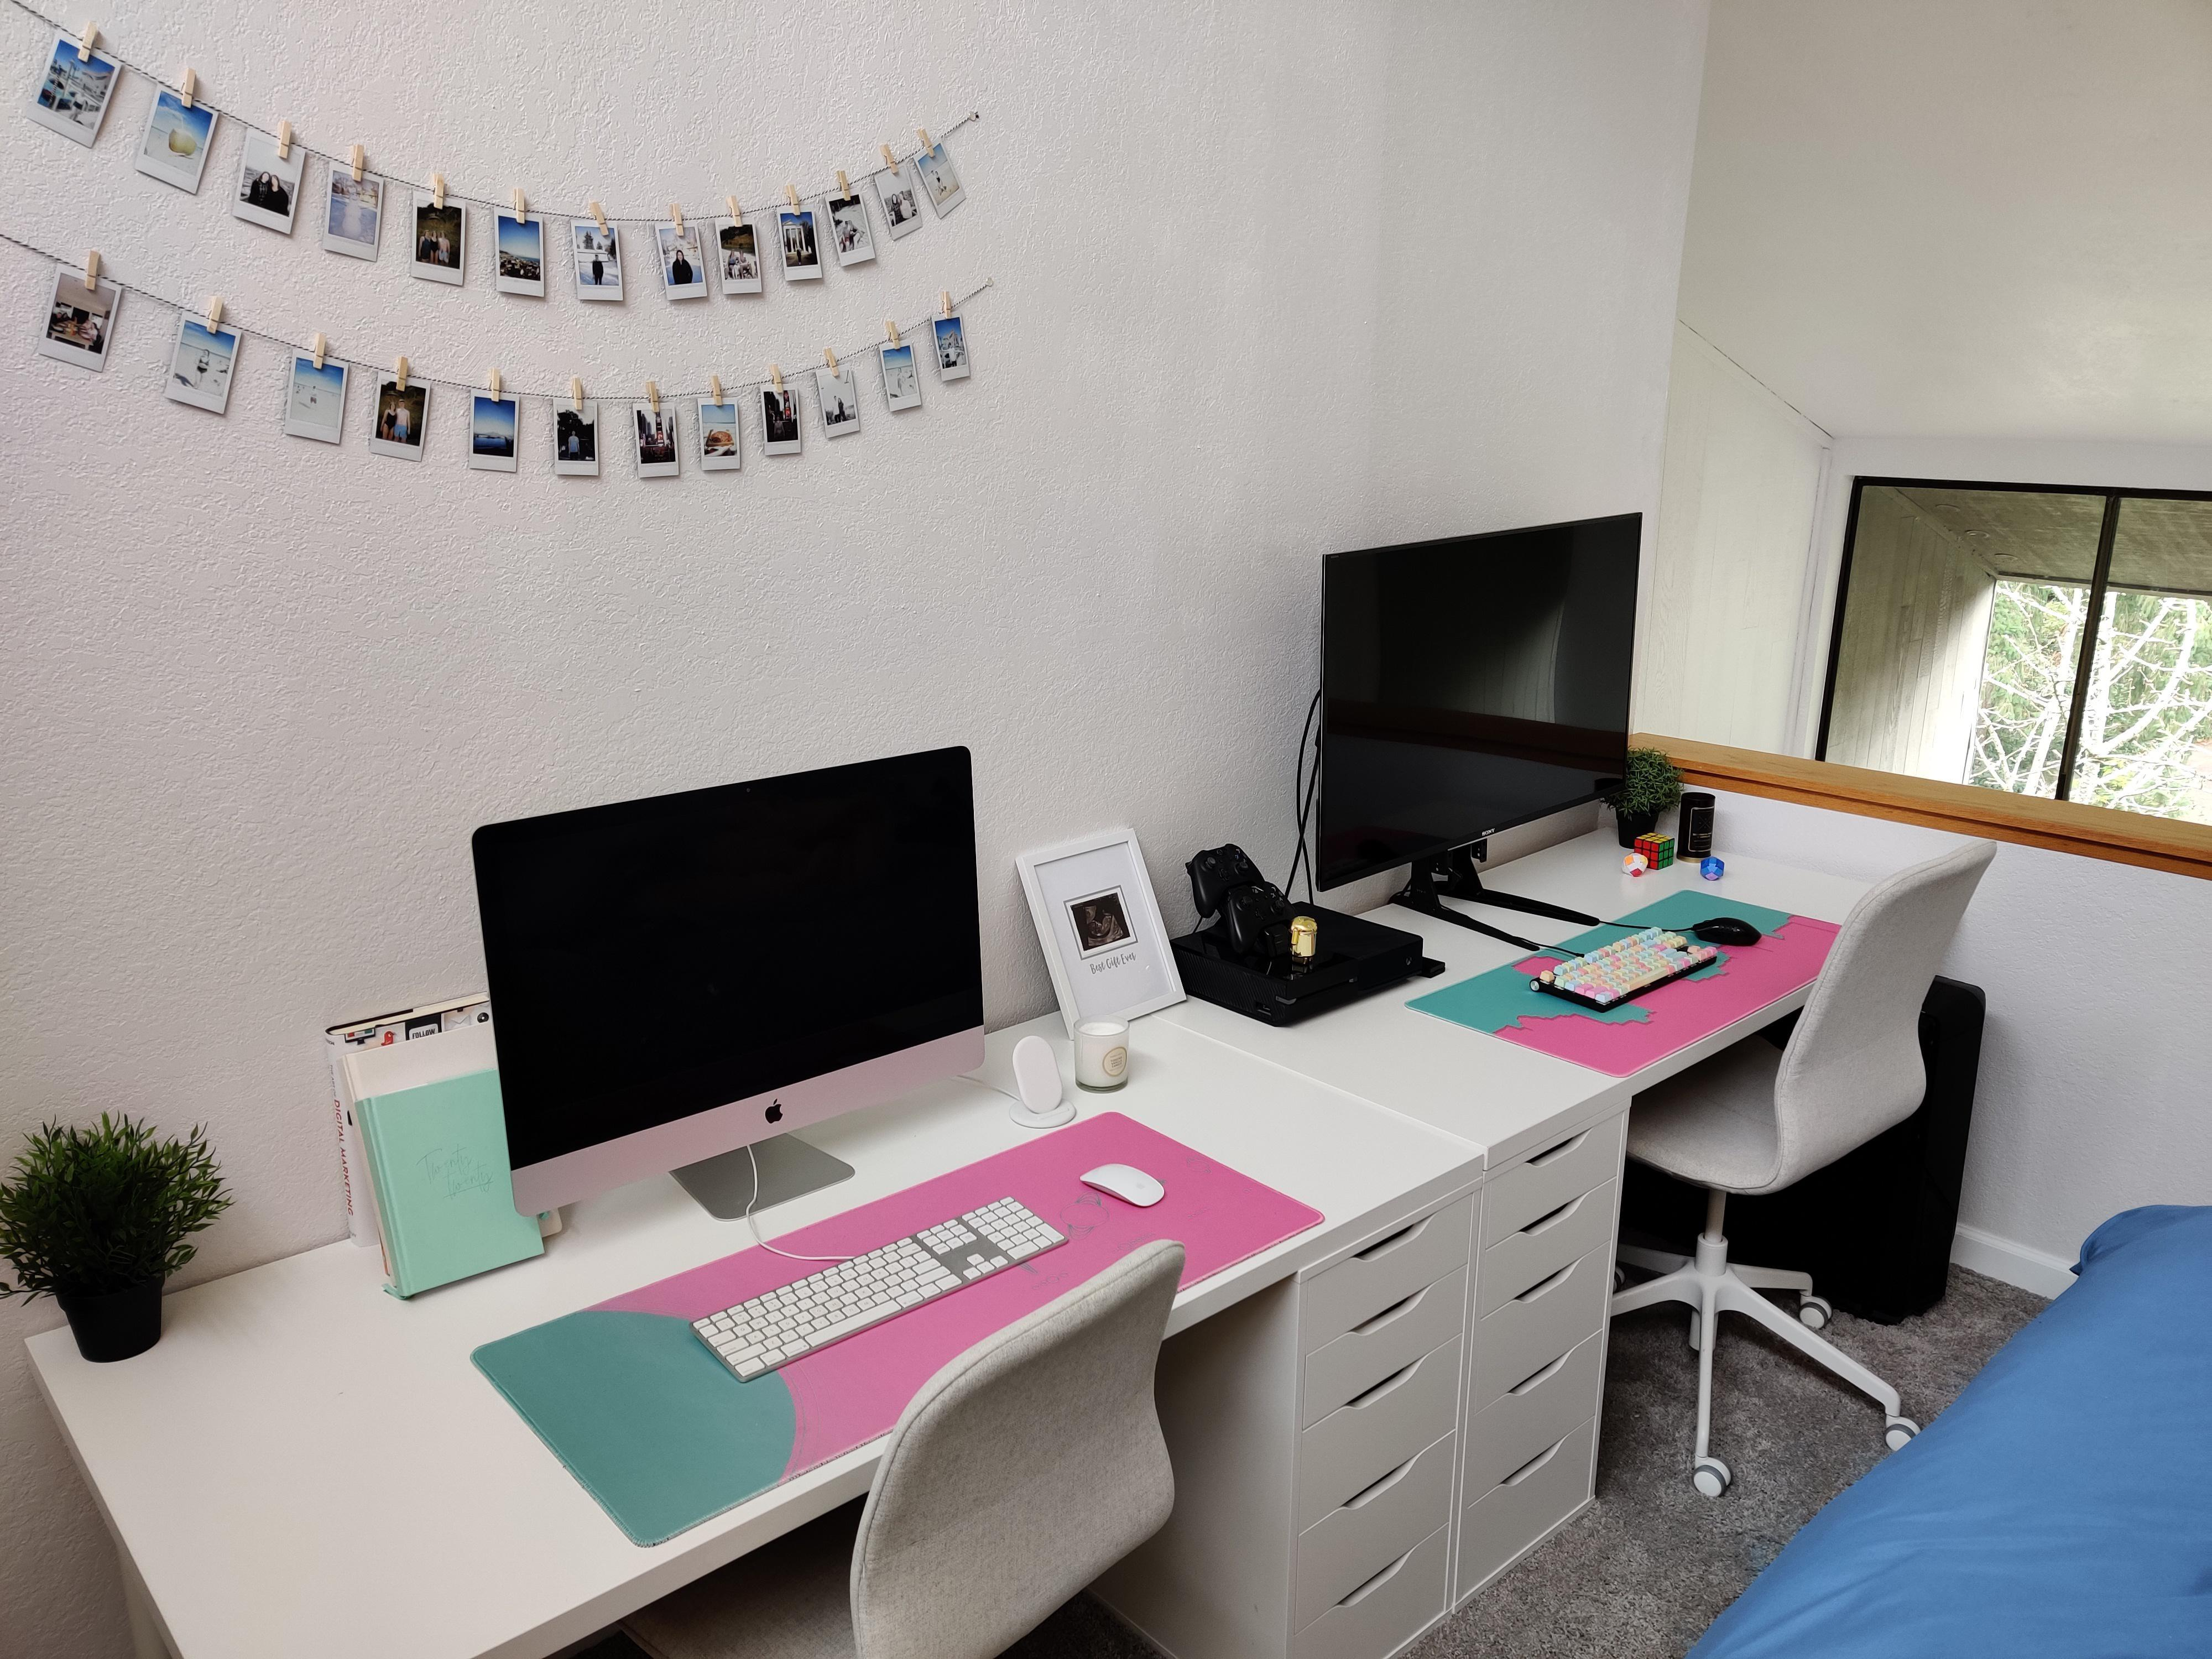Cellphone Charger (Wireless): (1005, 1037, 1076, 1131)
Chair (Generic): (1604, 833, 1994, 1507), (613, 1229, 1190, 1659)
Decoration (Candle): (1071, 1014, 1130, 1094), (1677, 791, 1717, 864)
Decoration (Picture): (17, 10, 995, 519), (1014, 824, 1190, 1040)
Decoration (Plant): (0, 1121, 223, 1345), (1602, 751, 1683, 849)
Decoration (Rubric's Cube): (1634, 833, 1676, 870)
Desk (Generic): (23, 953, 1484, 1659), (1172, 863, 1888, 1586)
Gaming Console: (1169, 897, 1423, 1030)
Gaming Controller: (1181, 843, 1287, 915), (1219, 878, 1303, 943)
Keyboard (Generic): (691, 1192, 1068, 1387), (1529, 925, 1717, 1012)
Monitor (Landscape): (1305, 512, 1646, 892)
Monitor (iMac): (470, 739, 1001, 1225)
Mouse (Generic): (1076, 1159, 1169, 1218), (1689, 917, 1764, 950)
Mousepad (Gaming): (463, 1105, 1329, 1544), (1402, 889, 1857, 1084)
Notebook: (352, 1063, 559, 1305)
Storage Drawer: (1162, 1187, 1480, 1659), (1460, 1086, 1634, 1622)
